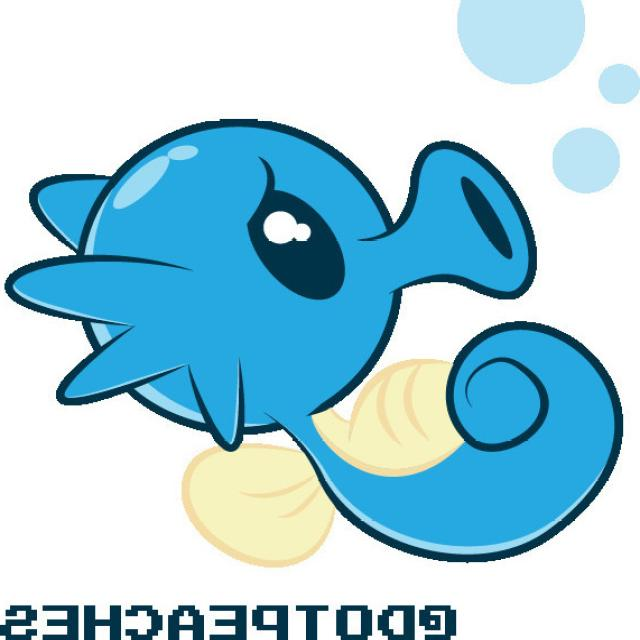Horsea: (31, 116, 614, 569)
